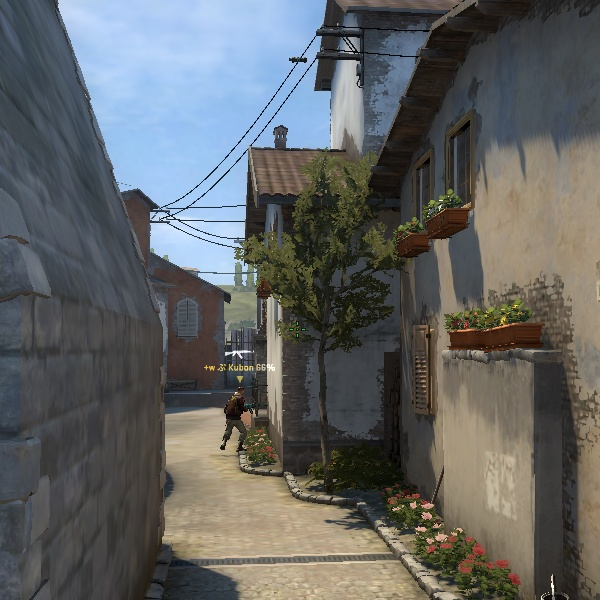t_body: (215, 385, 257, 457)
